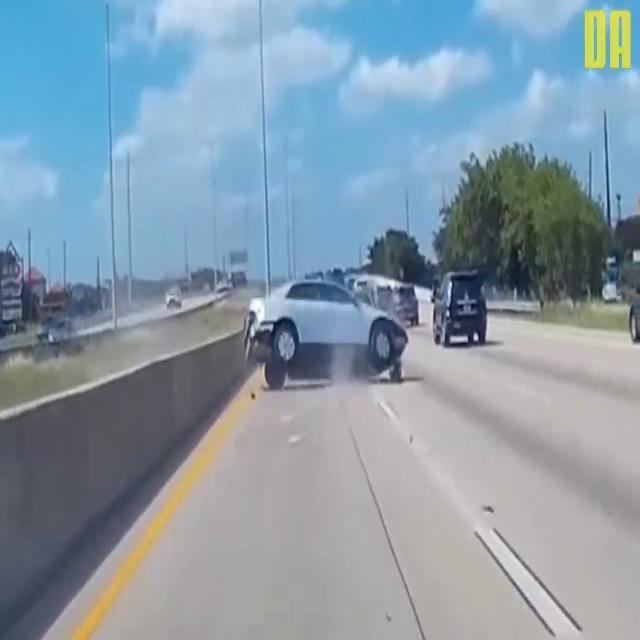normal: (417, 235, 513, 362)
single accident: (213, 207, 427, 425)
